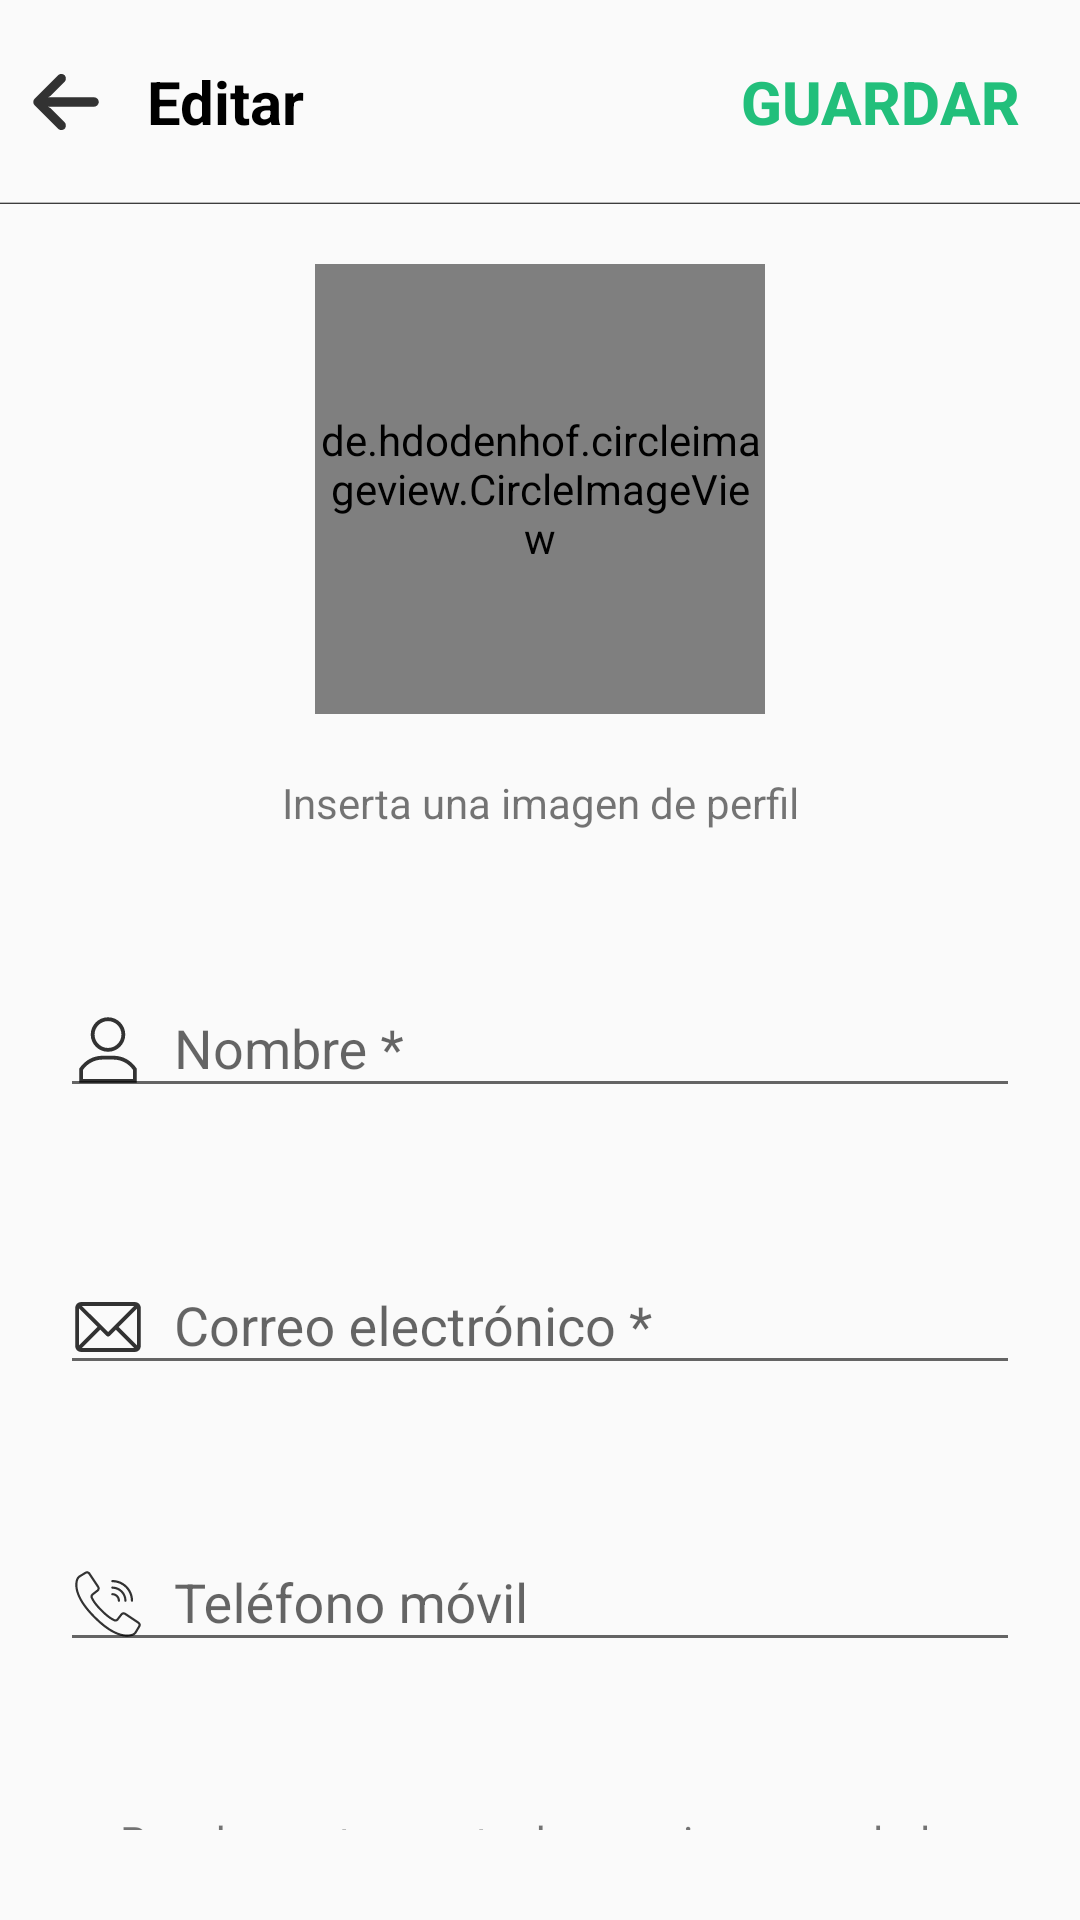

Point at icon controls on the screen. Image size 1080 x 1920, points as point (x, y).
back to: point (66, 102)
